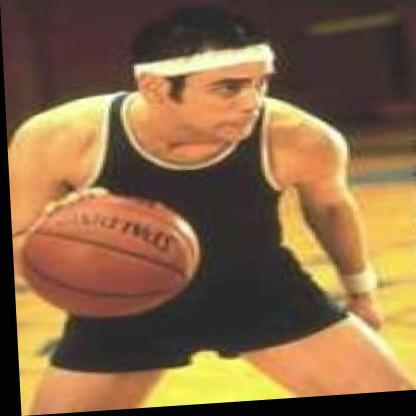basketball: (12, 183, 208, 332)
